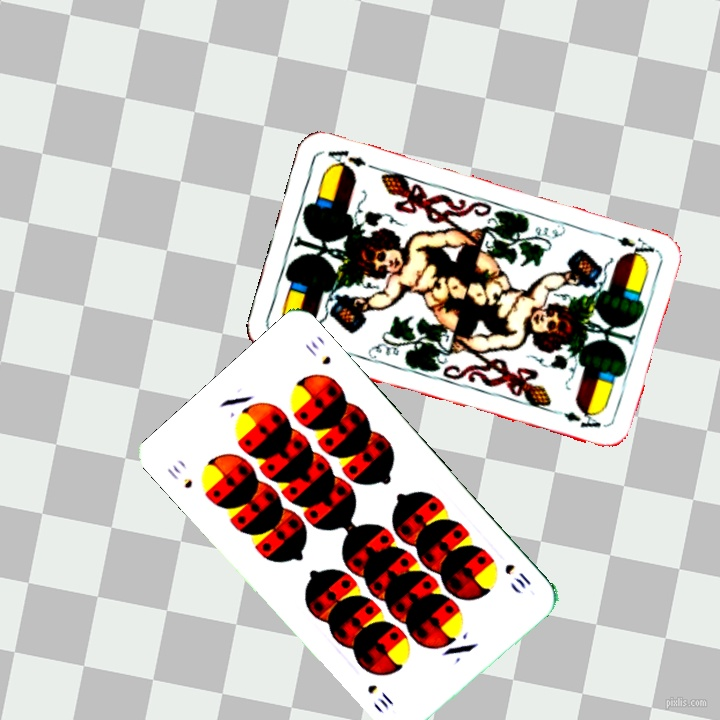EA: (613, 232, 657, 258)
S10: (500, 560, 534, 592), (162, 460, 195, 491)
